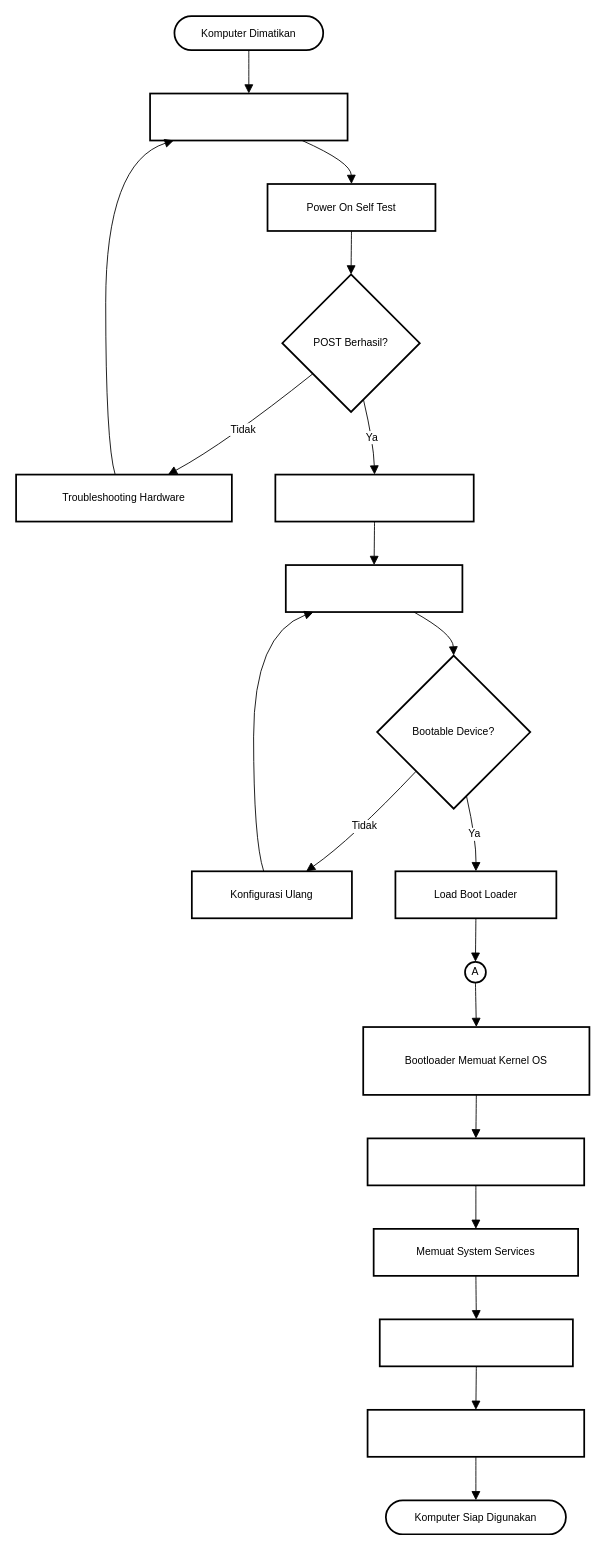
Image size: 605x1549. Some labels were removed from this diagram. Each missing label, with the centre of its shape:
"BIOS/UEFI Initialization" belongs at pixel 374 497.
"Display Manager/Login" belongs at pixel 475 1342.
"Inisialisasi Sistem & Driver" belongs at pixel 475 1161.
"Memuat User Environment" belongs at pixel 475 1433.
"Menekan Tombol Power" belongs at pixel 248 116.
"Scan Boot Sequence" belongs at pixel 373 588.
